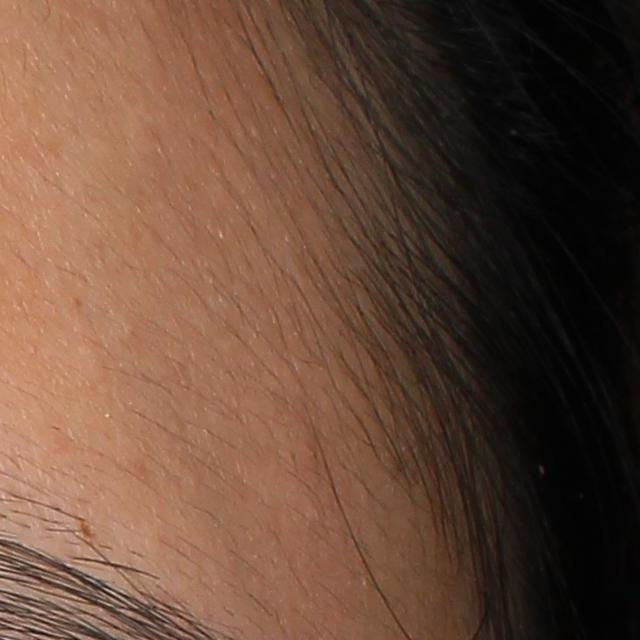nevus: (79, 518, 100, 540)
